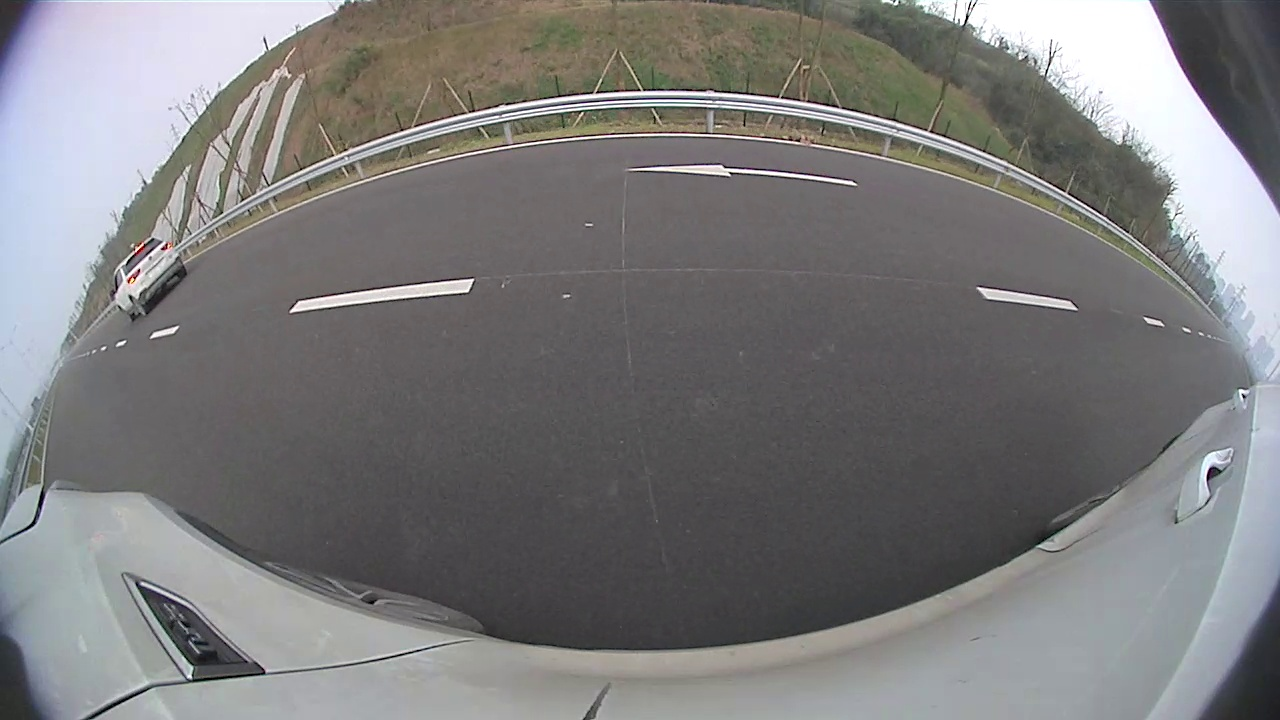car: (744, 143, 870, 218)
front: (745, 175, 758, 201)
rear: (781, 179, 801, 212)
